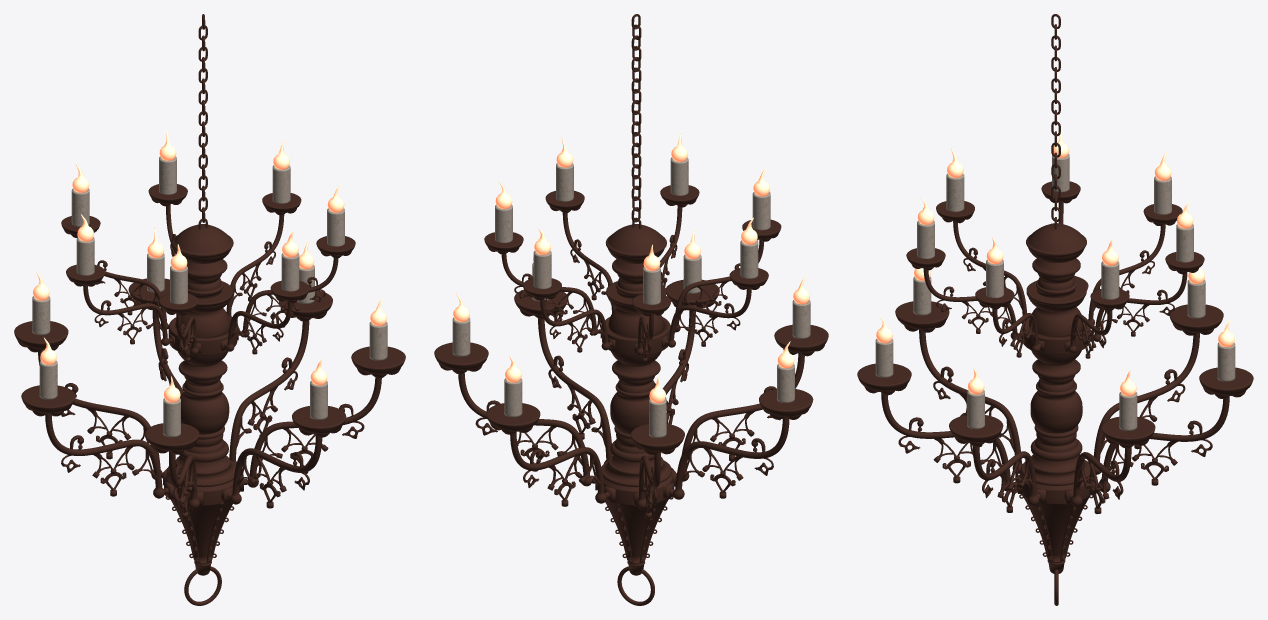
File: chandelier.glb
3 renders of one model, left to right at view 1: azimuth 30°, elevation 25°; view 2: azimuth 150°, elevation 25°; view 3: azimuth 270°, elevation 25°, orthographic.
Visible parts, largest first — view 1: NurbsPath.002_9; view 2: NurbsPath.002_9; view 3: NurbsPath.002_9.
Part boxes in pixels (x1,y1,x2,y2): NurbsPath.002_9: (14,14,405,605); NurbsPath.002_9: (434,14,828,605); NurbsPath.002_9: (857,14,1253,605).
Size of the model in its own units: 1.98 by 3.3 by 2.01.
4 materials, 2 textured.
